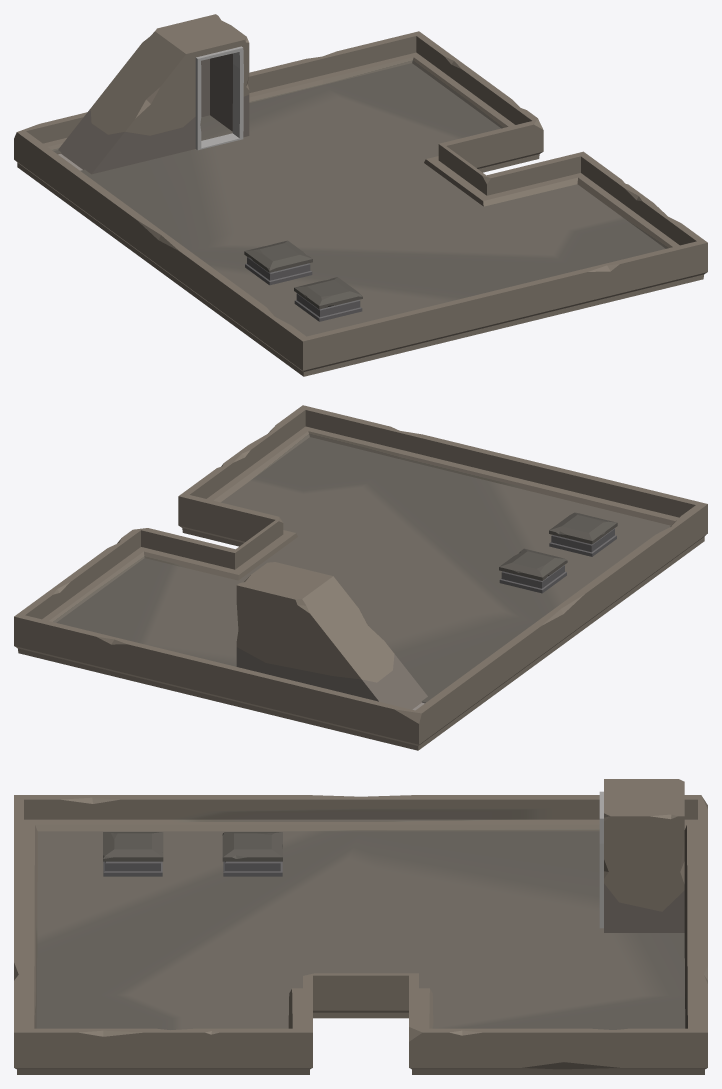
Rendered from apoc_SM_Bld_HighRise_Medium_01_Interior_Roof_01.gltf.
The picture shows the model from 3 angles, top to bottom: view 1: azimuth 30°, elevation 25°; view 2: azimuth 150°, elevation 25°; view 3: azimuth 270°, elevation 25°; orthographic projection. The views are drawn at different scales.
Parts seen in each view (by area): view 1: SM_Bld_HighRise_Medium_01_Interior_Roof_01; view 2: SM_Bld_HighRise_Medium_01_Interior_Roof_01; view 3: SM_Bld_HighRise_Medium_01_Interior_Roof_01.
Boxes of the visible parts, box(x1,y1,x2,y2) form: SM_Bld_HighRise_Medium_01_Interior_Roof_01: box(14, 14, 707, 376); SM_Bld_HighRise_Medium_01_Interior_Roof_01: box(14, 405, 707, 750); SM_Bld_HighRise_Medium_01_Interior_Roof_01: box(14, 779, 707, 1074).
Bounding box in the file's own units: 10.83 × 2.89 × 13.38.
Materials: 1 (1 with a texture image).
